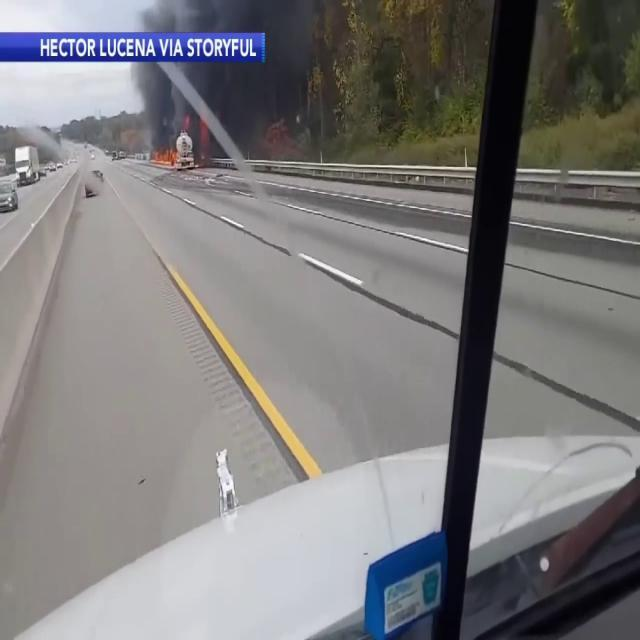Fire: (150, 138, 192, 170)
Smoke: (136, 0, 318, 162)
